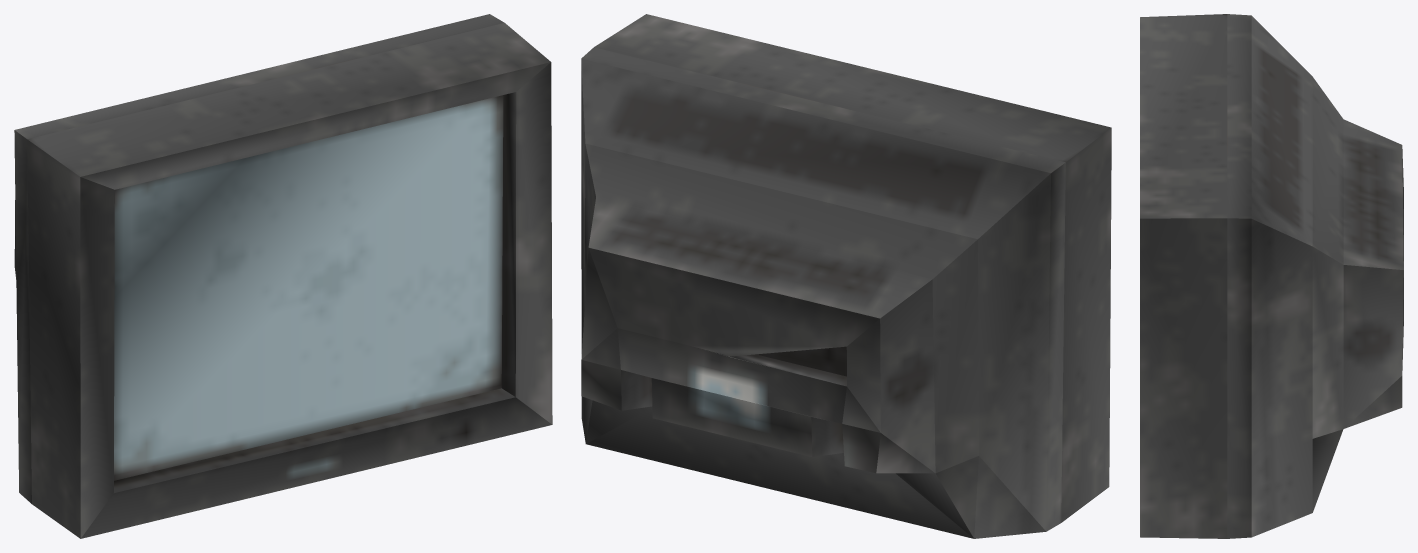
3 renders of one model, left to right at view 1: azimuth 30°, elevation 25°; view 2: azimuth 150°, elevation 25°; view 3: azimuth 270°, elevation 25°, orthographic. The views are drawn at different scales.
Visible parts, largest first — view 1: tv; view 2: tv; view 3: tv.
Part boxes in pixels (left/top/right/bottom): tv: left=14, top=14, right=552, bottom=538; tv: left=581, top=14, right=1111, bottom=538; tv: left=1140, top=14, right=1403, bottom=538.
Size of the model in its own units: 1.53 by 1.12 by 0.8354.
Materials: 1 (1 with a texture image).
